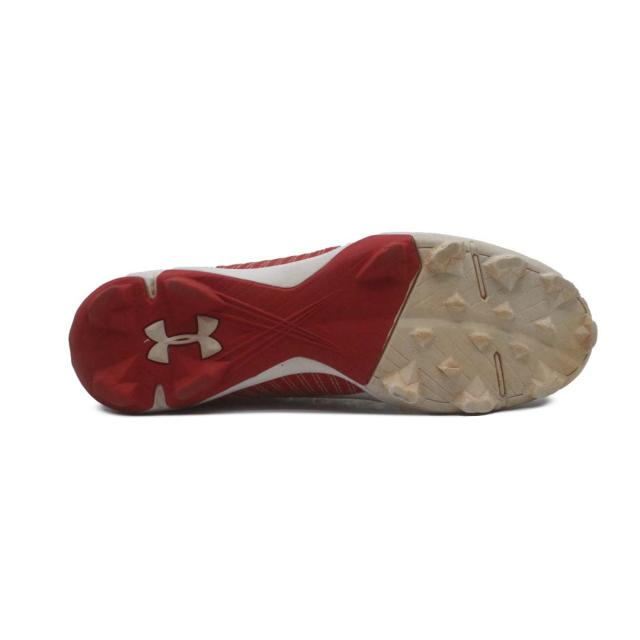outersole: (65, 236, 595, 411)
